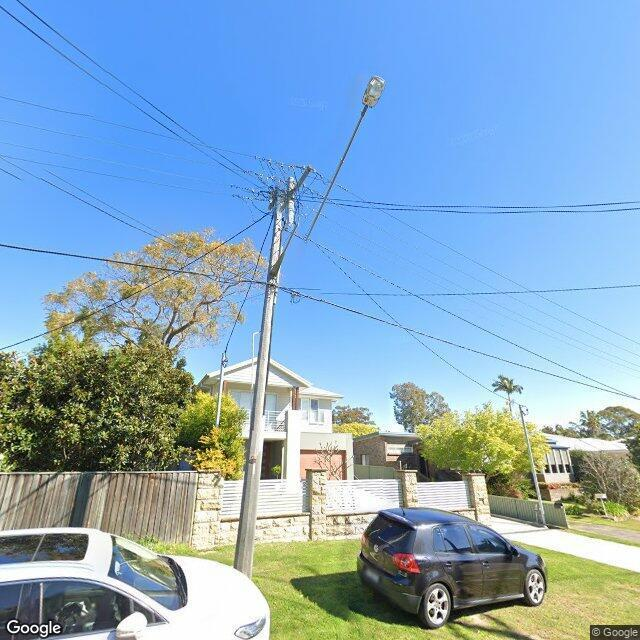crossarm: (267, 166, 312, 213)
steel-pole: (519, 404, 546, 526)
streetlight: (270, 74, 386, 274)
timber-pole: (233, 176, 294, 580)
